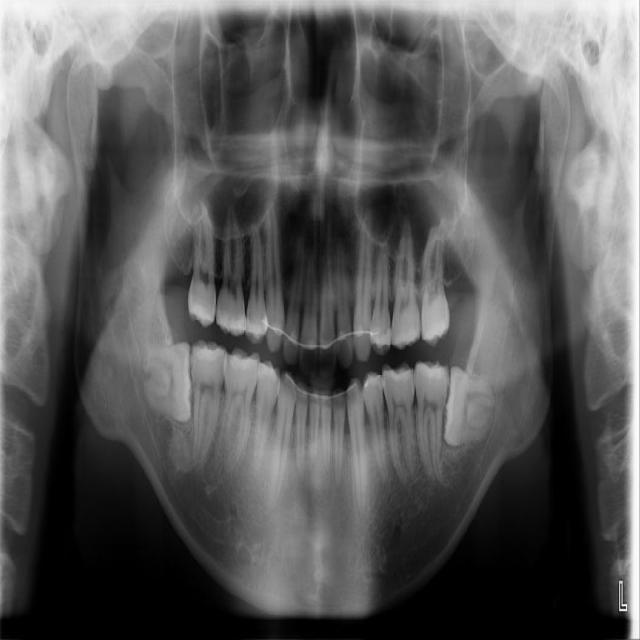73: (548, 529, 556, 550)
BioHorizons Implant: (420, 210, 449, 347)
Biomet 3i Implant: (439, 365, 499, 452)
Blue Sky Bio Implant: (412, 359, 449, 488)
Caries: (184, 199, 218, 327)
Implant: (179, 339, 229, 468)
Keystone Dental Implant: (142, 341, 193, 425)
